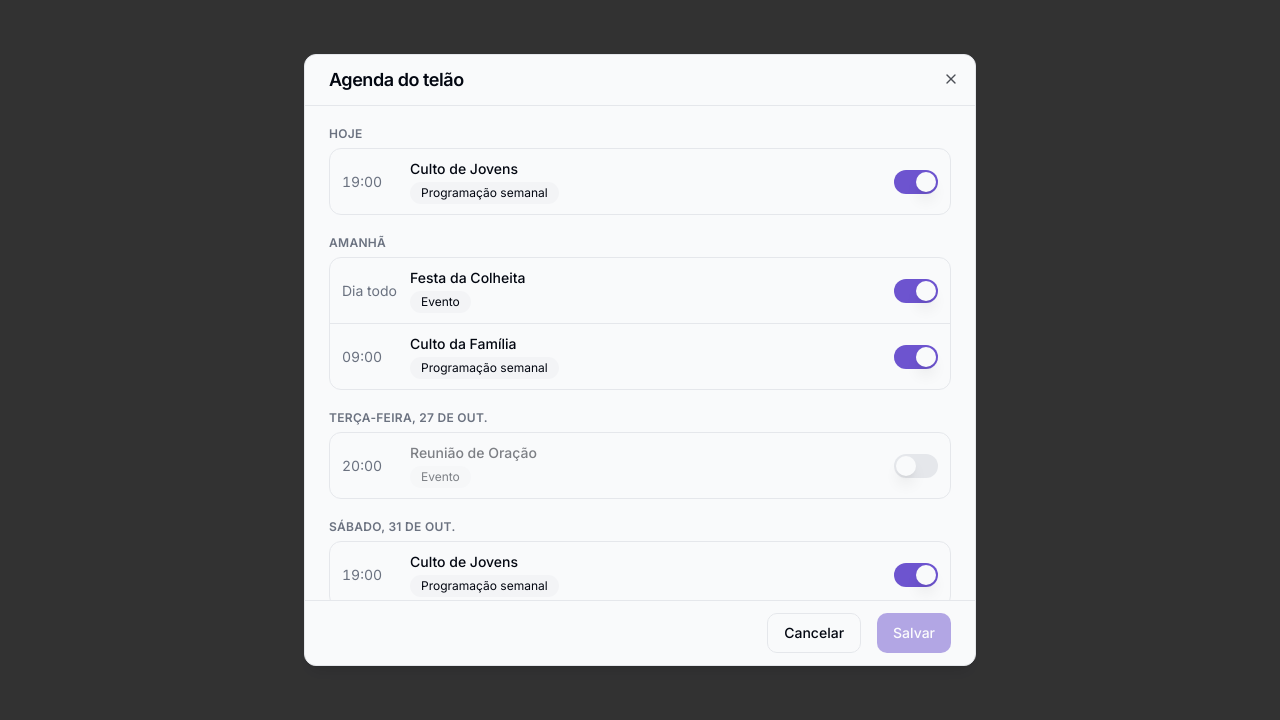
ProjectionAgendaSheet › fechar com alteração pede confirmação; desfazer a alteração fecha direto
The width and height of the screenshot is (1280, 720).
Later steps or results of the test are not shown.
What coordinates should you click on to do the following:
click the switch named "Festa da Colheita"
I would click on:
 (916, 290)
Its box is [894, 278, 938, 302].
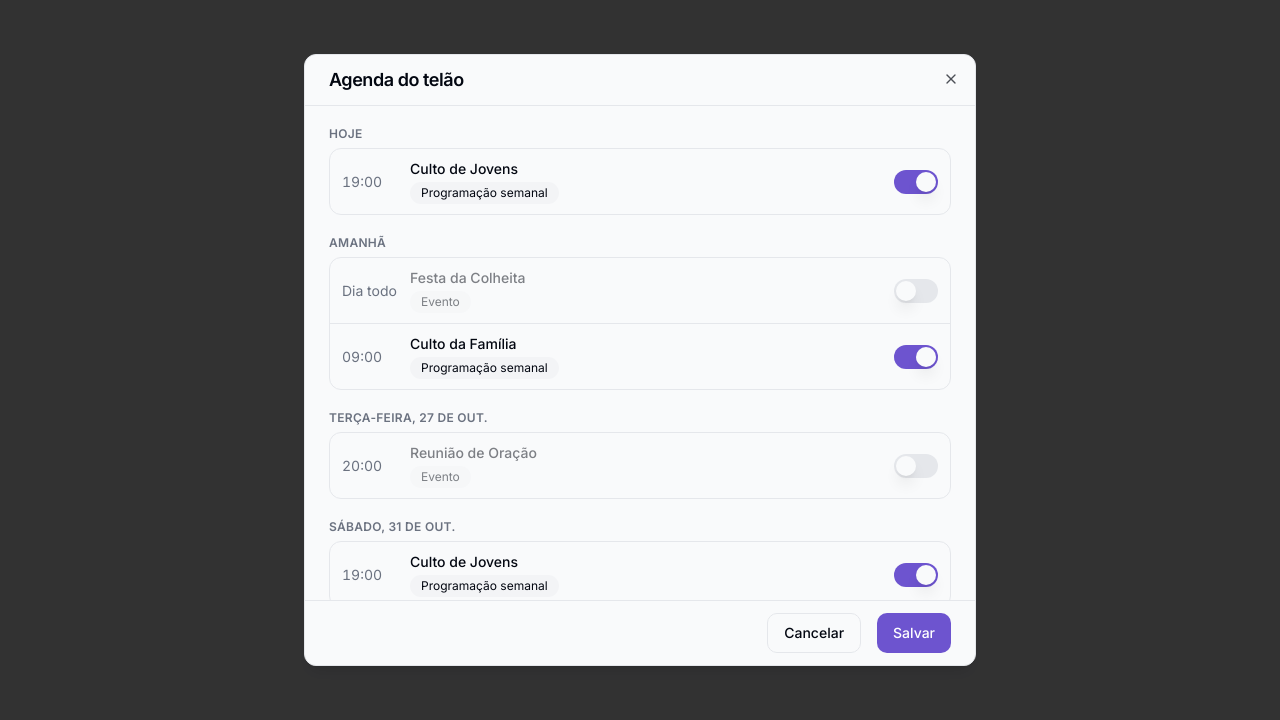
What coordinates should you click on to do the following:
click the button "Cancelar"
I would click on:
 (814, 633)
Its box is [767, 613, 861, 653].
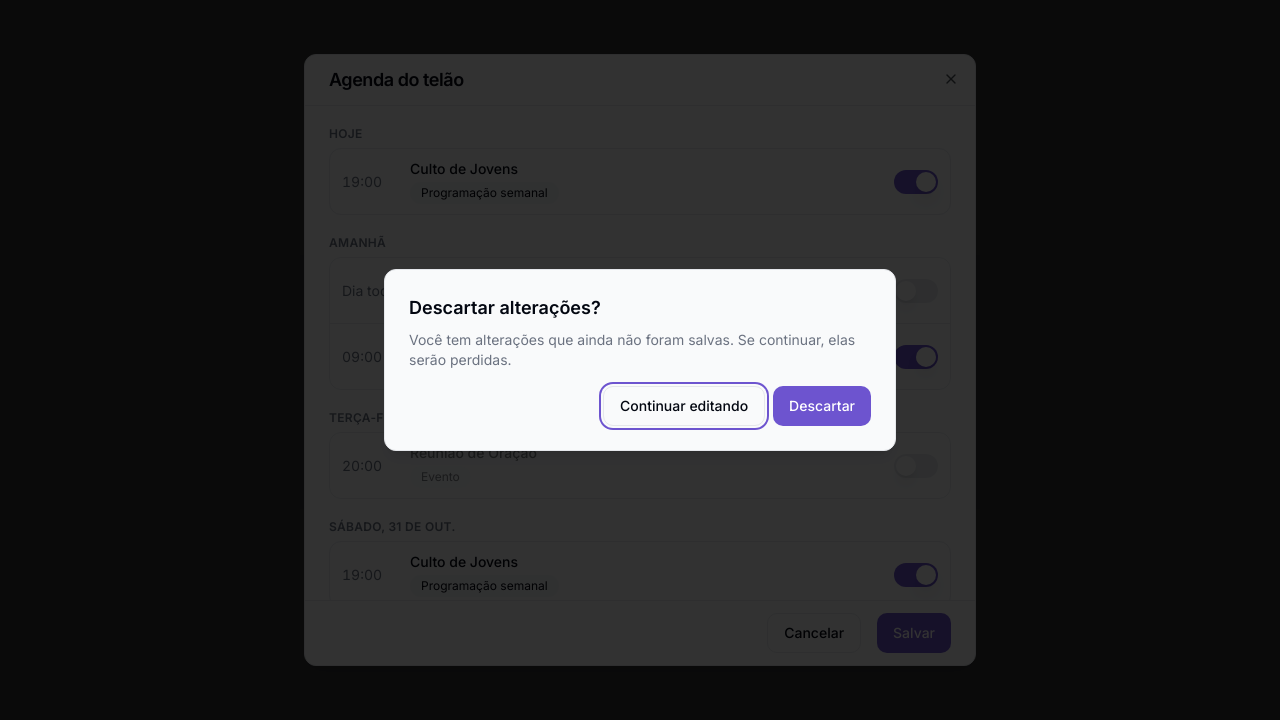
Expected: the heading "Descartar alterações?" is shown, [409, 297, 601, 318]
